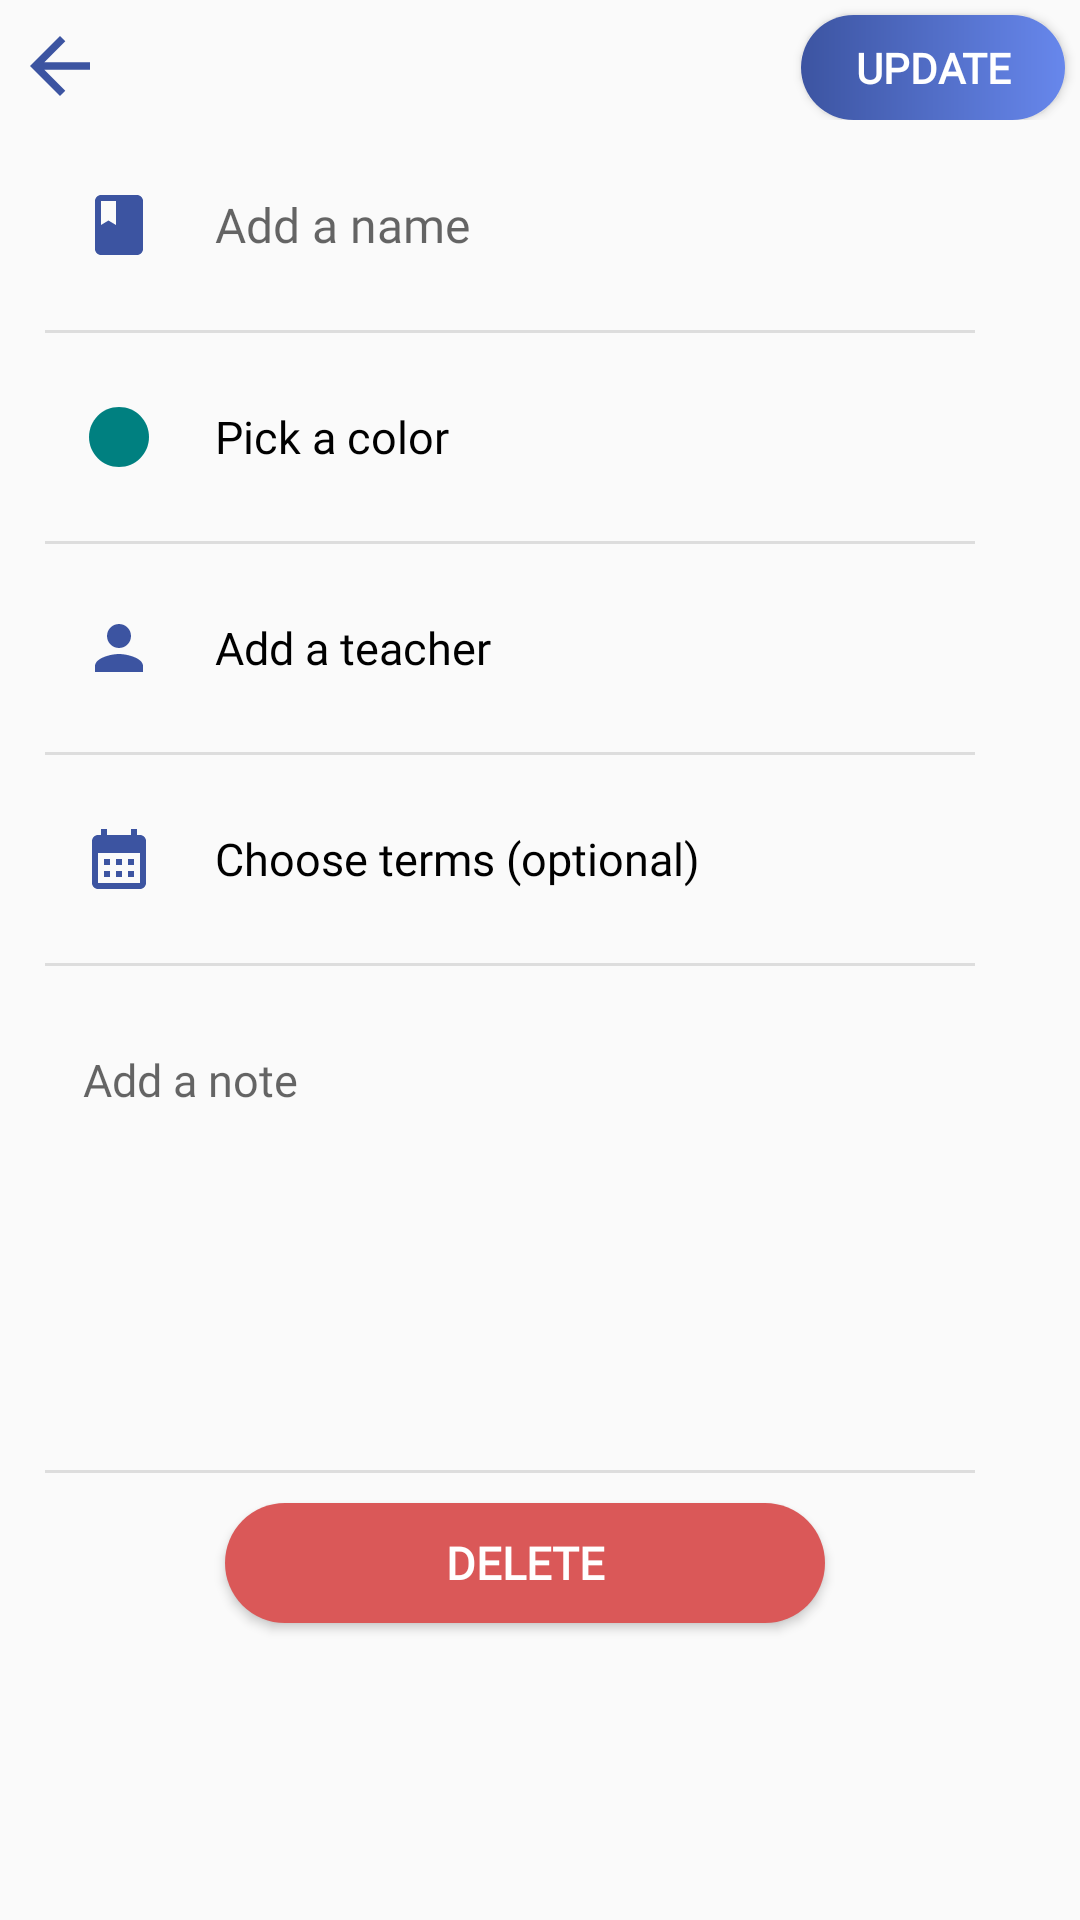

Locate icon controls on the screen. Image size 1080 x 1920, boxes as box=[x1, y1, x2, y2].
arrow back: box=[30, 36, 90, 96]
